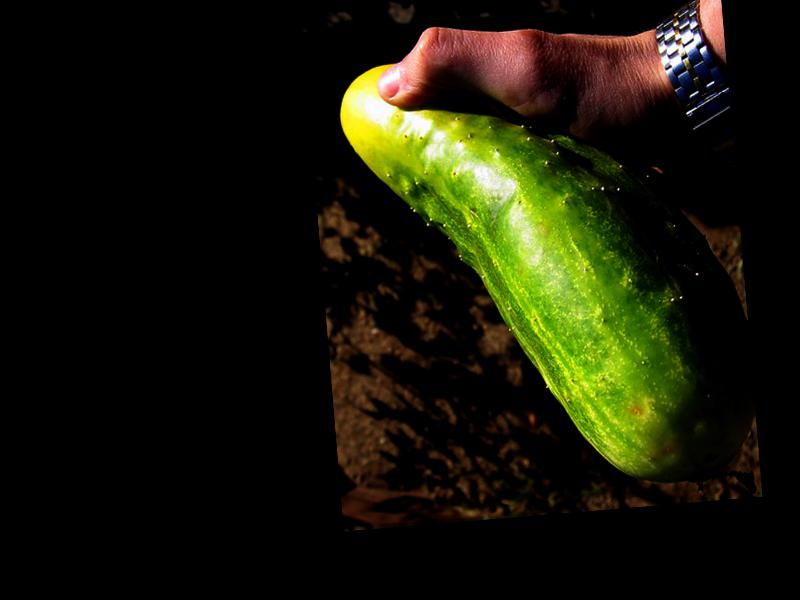Cucumber: (336, 36, 761, 509)
